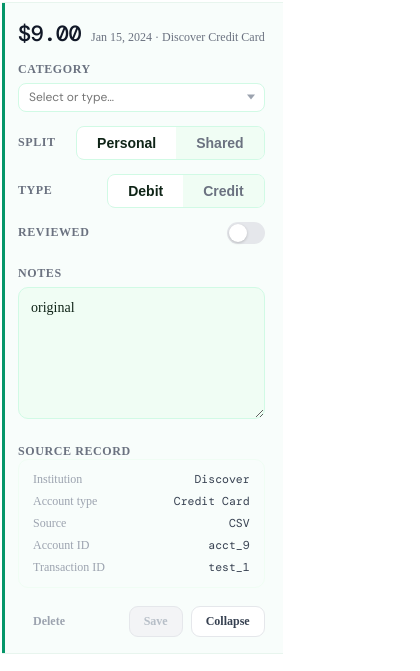
Test: Cancel restores the pristine values and hides itself
This screenshot has width=420, height=671.
Replace the text in the text box labelled "Notes" with "edited": coordinates (141, 353) [18, 287, 265, 419]
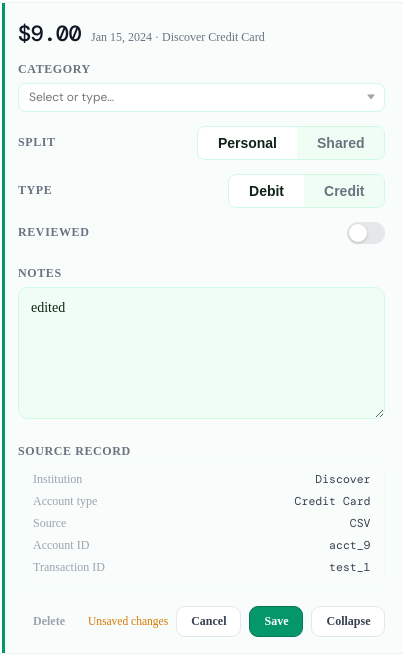
Click the button "Cancel": coordinates (209, 621) [176, 606, 241, 637]
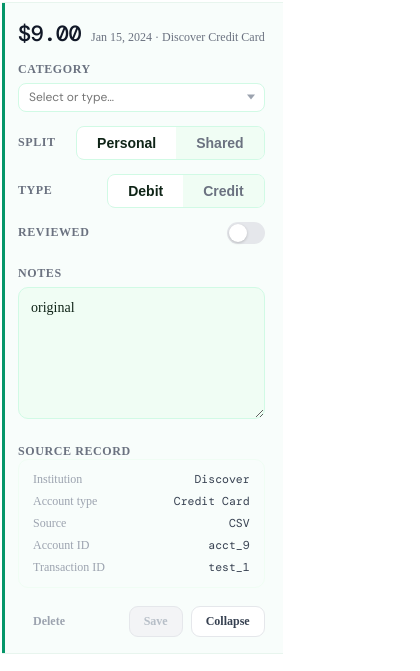
Now the text box labelled "Notes" holds "original", box [18, 287, 265, 419]
Now the button "Cancel" is gone
Now the button "Save" is disabled, box [129, 606, 183, 637]
